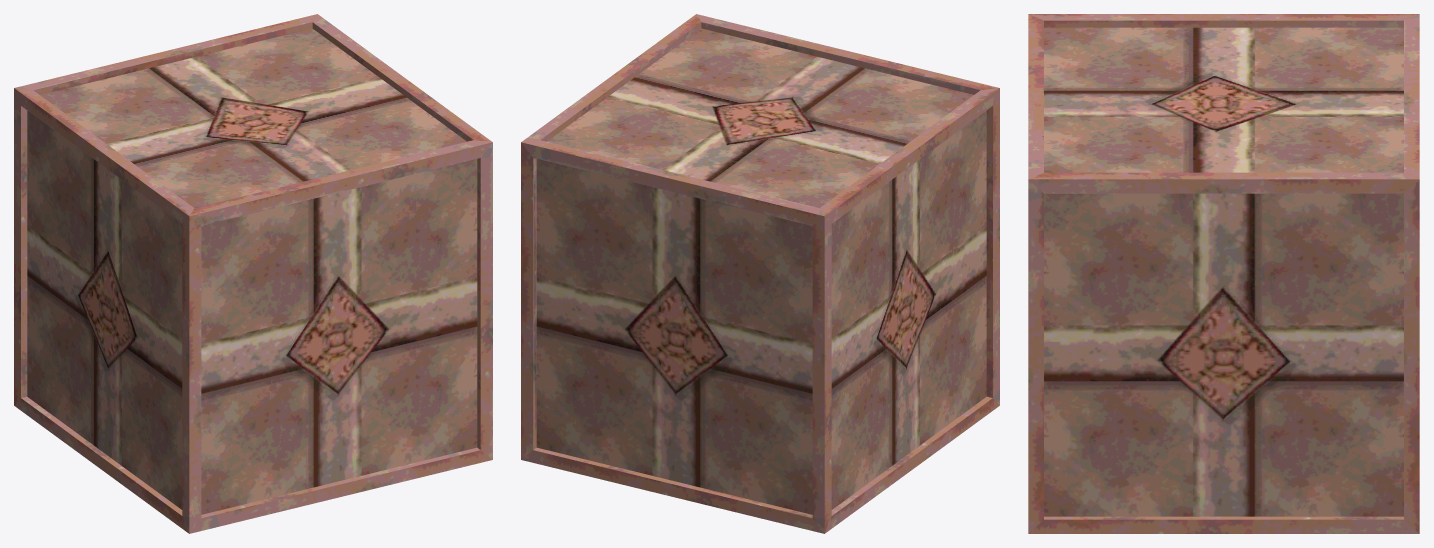
The model's file is PuzzleBox1.fbx.
3 views of the same model, side by side, from view 1: azimuth 30°, elevation 25°; view 2: azimuth 150°, elevation 25°; view 3: azimuth 270°, elevation 25° (orthographic). The views are drawn at different scales.
Visible parts, largest first — view 1: Box003; view 2: Box003; view 3: Box003.
Boxes of the visible parts, x1,y1,x2,y2 form: Box003: (14,14,492,533); Box003: (521,14,999,533); Box003: (1028,14,1419,533).
Size of the model in its own units: 250 by 250 by 250.
